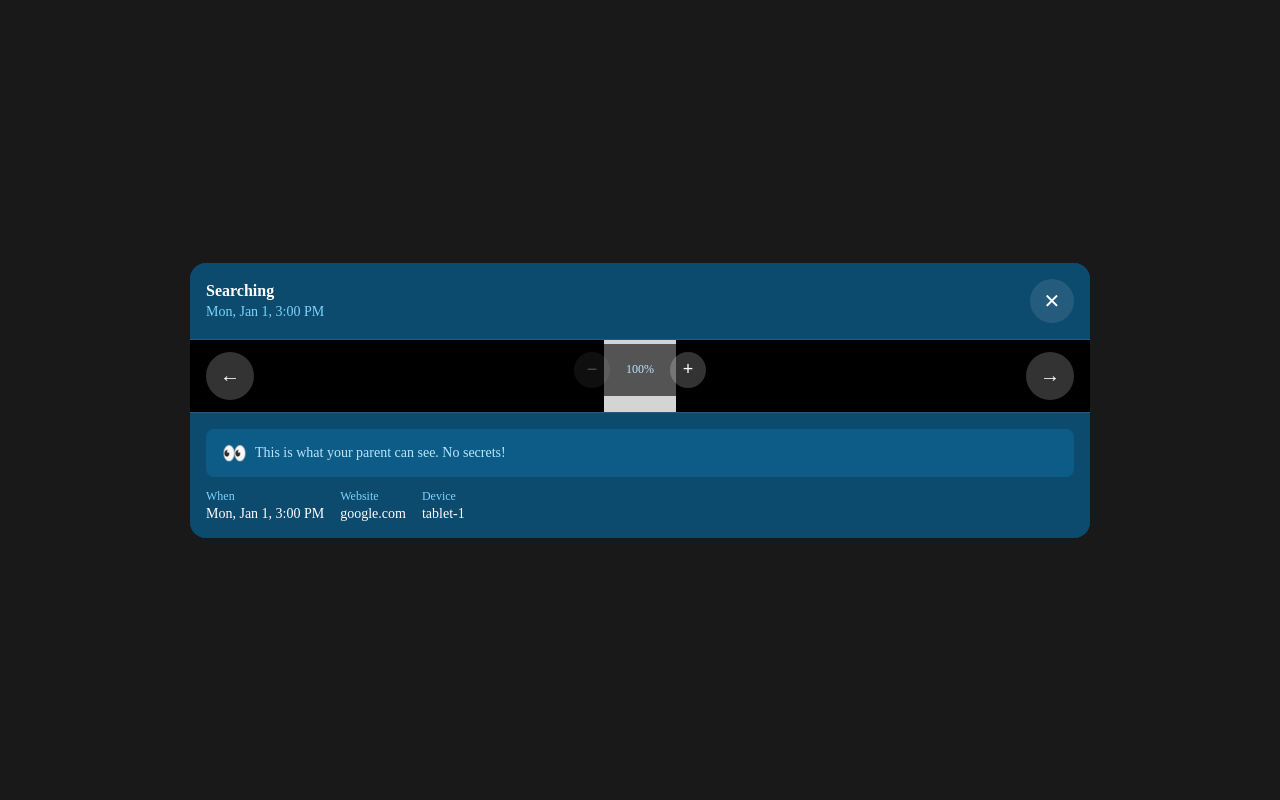
Test: ChildScreenshotDetail › Zoom Controls › should increase zoom when zoom in button is clicked
Click the button with test id "zoom-in-button" at (688, 370), box [670,352,706,388]
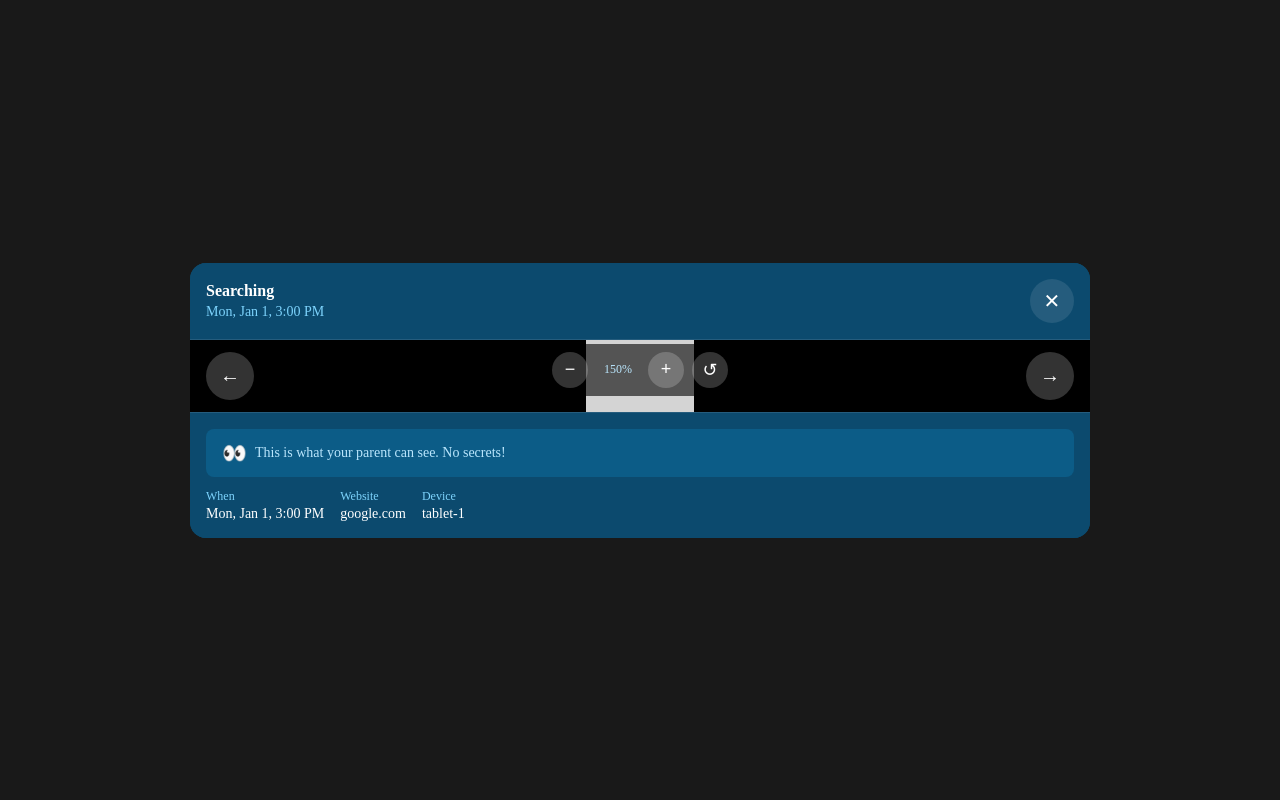
Now the text with test id "zoom-level" reads "150%", box [604,362,632,376]
